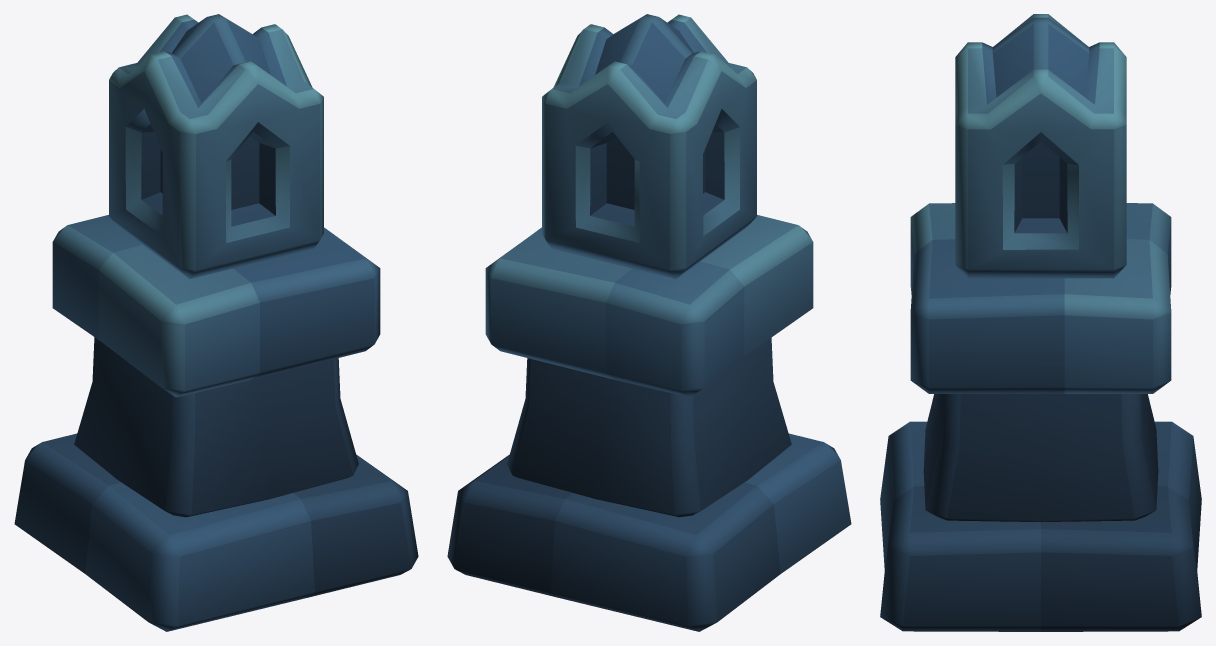
Rendered from torch_1.fbx.
3 renders of one model, left to right at view 1: azimuth 30°, elevation 25°; view 2: azimuth 150°, elevation 25°; view 3: azimuth 270°, elevation 25°, orthographic. The views are drawn at different scales.
Visible parts, largest first — view 1: torch_1; view 2: torch_1; view 3: torch_1.
Boxes of the visible parts, x1,y1,x2,y2 form: torch_1: (14, 14, 418, 631); torch_1: (447, 14, 851, 631); torch_1: (880, 14, 1201, 631).
Bounding box in the file's own units: 129 × 246 × 129.
